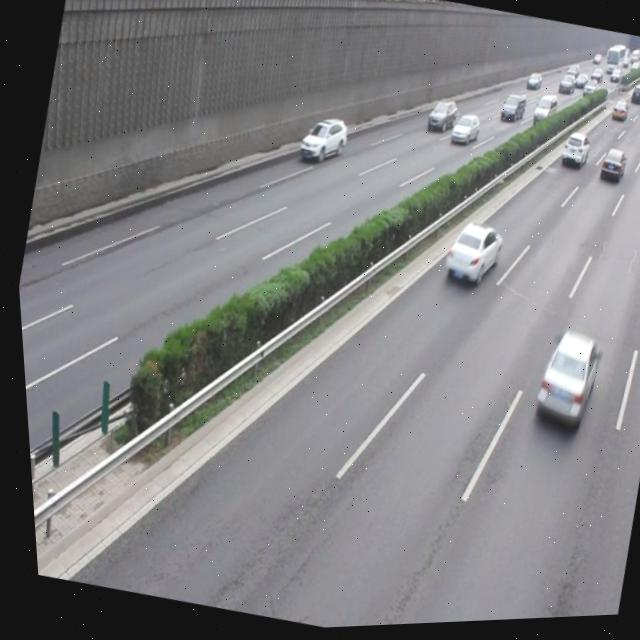car: (518, 325, 601, 437), (433, 216, 503, 293), (291, 112, 350, 172), (444, 113, 479, 150), (640, 261, 640, 329)
